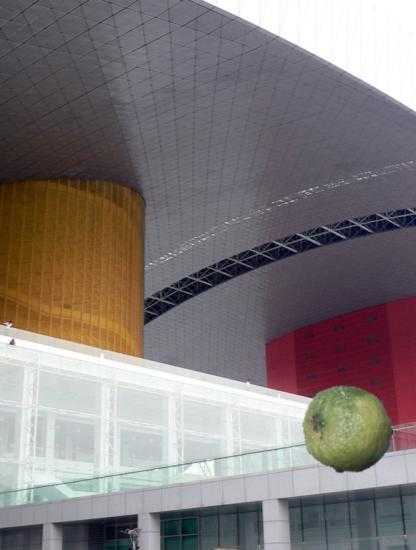Limes: (302, 384, 394, 476)
